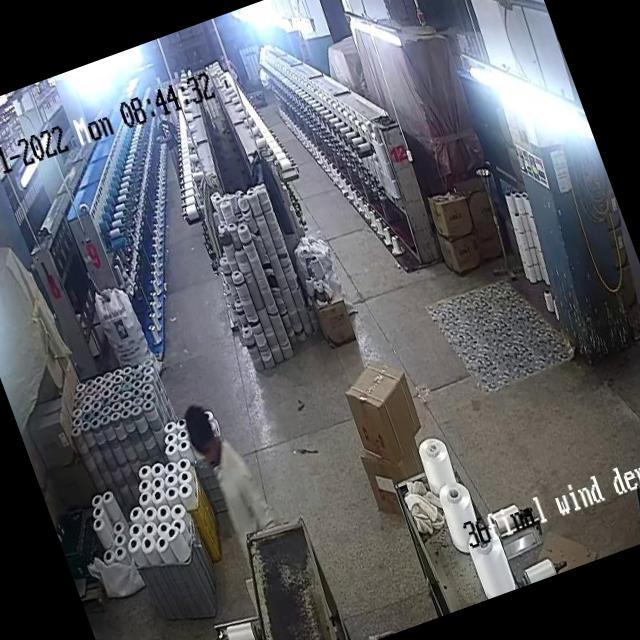person: (177, 386, 272, 536)
